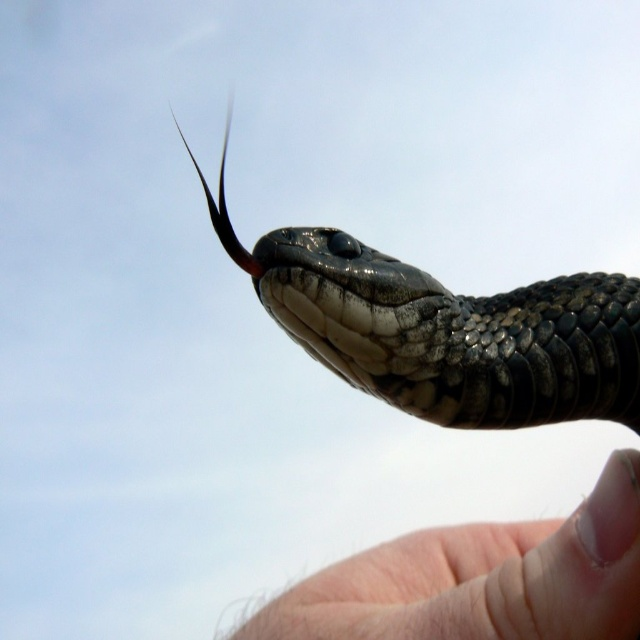Snake: (165, 81, 640, 439)
